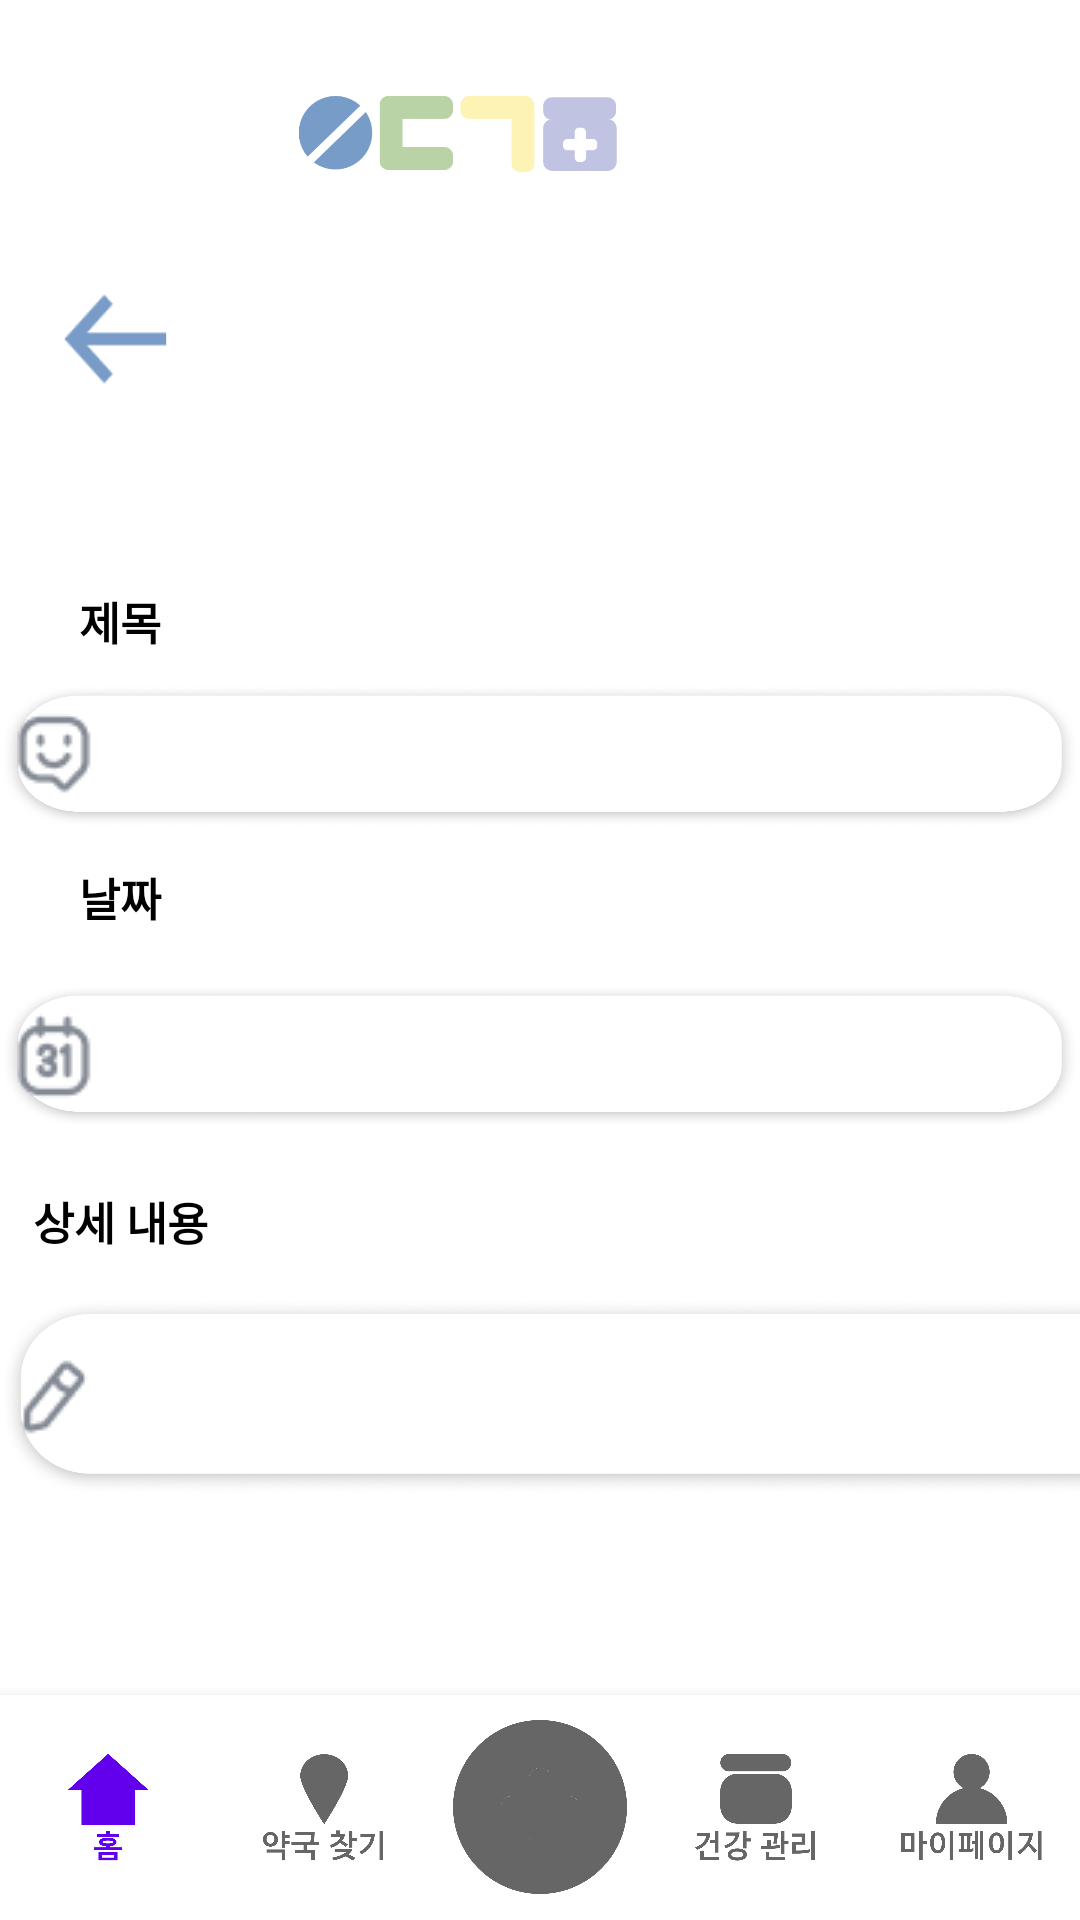

Where to tap for icons on this 1080w x 1920h app screen, as point (x, y):
backicon: point (116, 339)
